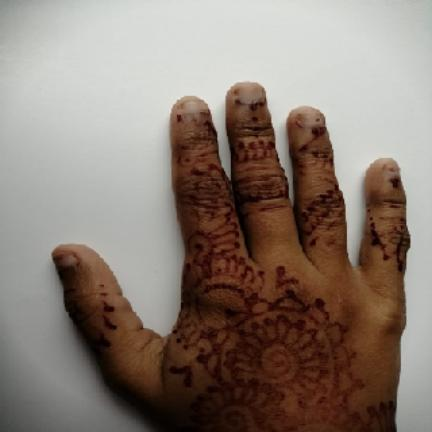Nail: (235, 86, 264, 103), (295, 111, 324, 127), (53, 254, 79, 268), (182, 99, 207, 113), (379, 161, 399, 172)
